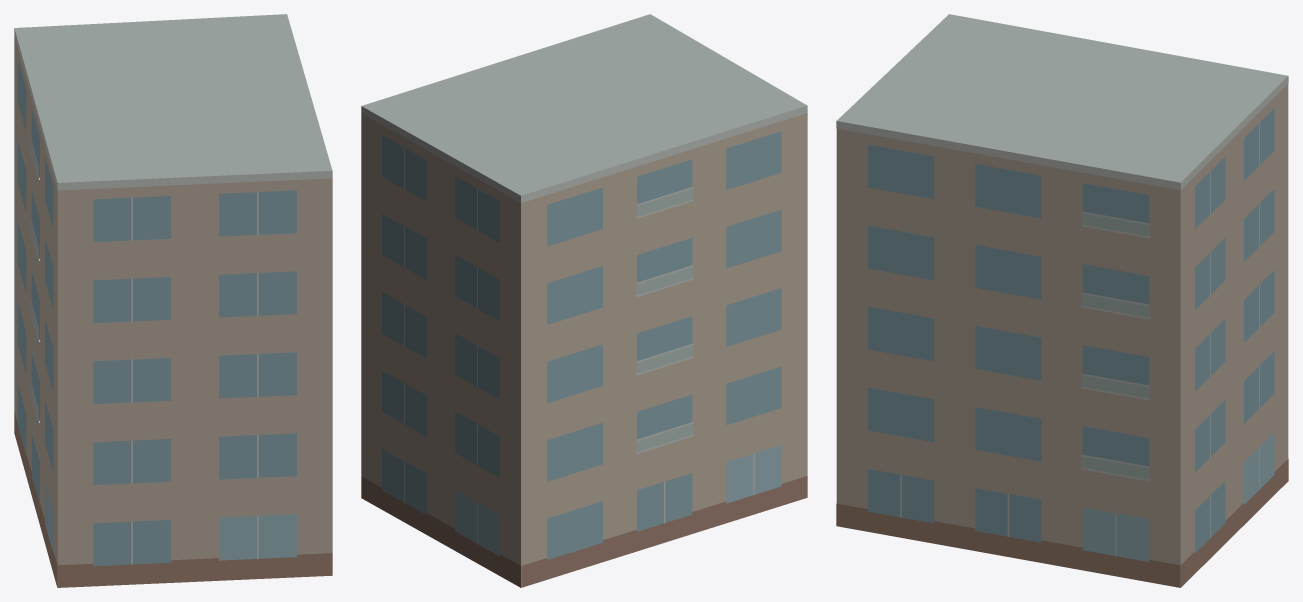
Rendered from survey-upis-33011814.glb.
3 renders of one model, left to right at view 1: azimuth 30°, elevation 25°; view 2: azimuth 150°, elevation 25°; view 3: azimuth 270°, elevation 25°, orthographic. The views are drawn at different scales.
Parts seen in each view (by area): view 1: survey-upis-33011814.tmp; view 2: survey-upis-33011814.tmp; view 3: survey-upis-33011814.tmp.
Boxes of the visible parts, x1,y1,x2,y2 form: survey-upis-33011814.tmp: (14,14,332,587); survey-upis-33011814.tmp: (361,14,807,587); survey-upis-33011814.tmp: (836,14,1288,587).
Bounding box in the file's own units: 11.7 × 13.1 × 13.25.
